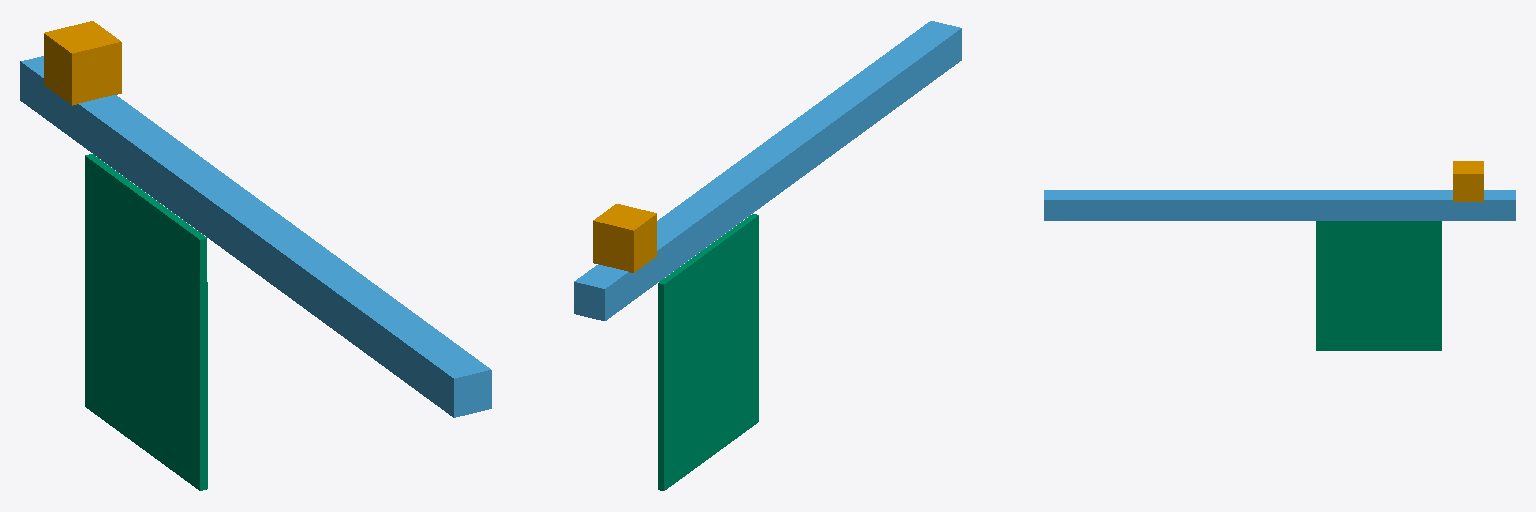
The robot description file, URDF, robot "gelsight_rig":
<?xml version="1.0"?>
<robot
  name="gelsight_rig">
  <link name="gelsight_box">
    <visual>
      <geometry>
        <box size="0.033 0.033 0.033"/>
      </geometry>
      <origin xyz="0 0 -0.0166"/>
    </visual>
    <inertial>
      <mass value="0.1"/>
      <inertia ixx="0.01" ixy="0.0" ixz="0.0" iyy="0.01" iyz="0.0" izz="0.01"/>
      <origin xyz="0 0 -0.166"/>
    </inertial>
  </link>
  <link name="rod">
    <visual>
      <geometry>
        <box size="0.025 0.5 0.025"/>
      </geometry>
      <origin xyz="0 -0.2 0"/>
    </visual>
    <inertial>
      <mass value="0.1"/>
      <inertia ixx="0.01" ixy="0.0" ixz="0.0" iyy="0.01" iyz="0.0" izz="0.01"/>
      <origin xyz="0 0 0"/>
    </inertial>
  </link>
  <link name="apriltag_mount">
    <visual>
      <geometry>
        <box size="0.133 .16 0.005"/>
      </geometry>
      <origin xyz="0 -0.03 0"/>
    </visual>
    <inertial>
      <mass value="0.1"/>
      <inertia ixx="0.01" ixy="0.0" ixz="0.0" iyy="0.01" iyz="0.0" izz="0.01"/>
      <origin xyz="0 0 -0.03"/>
    </inertial>
  </link>

  <joint name="gelsight_box_to_rod" type="fixed">
    <parent link="gelsight_box"/>
    <child link="rod"/>
    <origin rpy="0 0 0" xyz="0 0 -0.0453"/>
  </joint>


  <joint name="gelsight_rod_to_apriltag_mount" type="fixed">
    <parent link="rod"/>
    <child link="apriltag_mount"/>
    <origin rpy="1.57 0 1.57" xyz="-0.0125 -0.095 -0.065"/>
  </joint>


</robot>

--- What the picture shows (computed from the rendered views, not written in the file) ---
The picture shows the robot from 3 angles, left to right: view 1: azimuth 30°, elevation 25°; view 2: azimuth 150°, elevation 25°; view 3: azimuth 270°, elevation 25°; orthographic projection.
Model gelsight_rig with 3 links and 2 joints (2 fixed), rooted at gelsight_box, posed every joint at zero.
Links seen in each view (by area): view 1: rod, apriltag_mount, gelsight_box; view 2: rod, apriltag_mount, gelsight_box; view 3: apriltag_mount, rod, gelsight_box.
Boxes of the visible links, box(x1,y1,x2,y2) form: rod: box(20, 56, 491, 417); apriltag_mount: box(85, 154, 207, 490); gelsight_box: box(44, 21, 121, 105); rod: box(574, 21, 961, 320); apriltag_mount: box(658, 214, 758, 490); gelsight_box: box(593, 204, 656, 272); apriltag_mount: box(1316, 221, 1441, 350); rod: box(1044, 190, 1515, 220); gelsight_box: box(1453, 161, 1483, 201).
Size in the robot's own frame: 0.033 by 0.5 by 0.2202 metres.
Geometry: primitives only (box / cylinder / sphere), no mesh files.